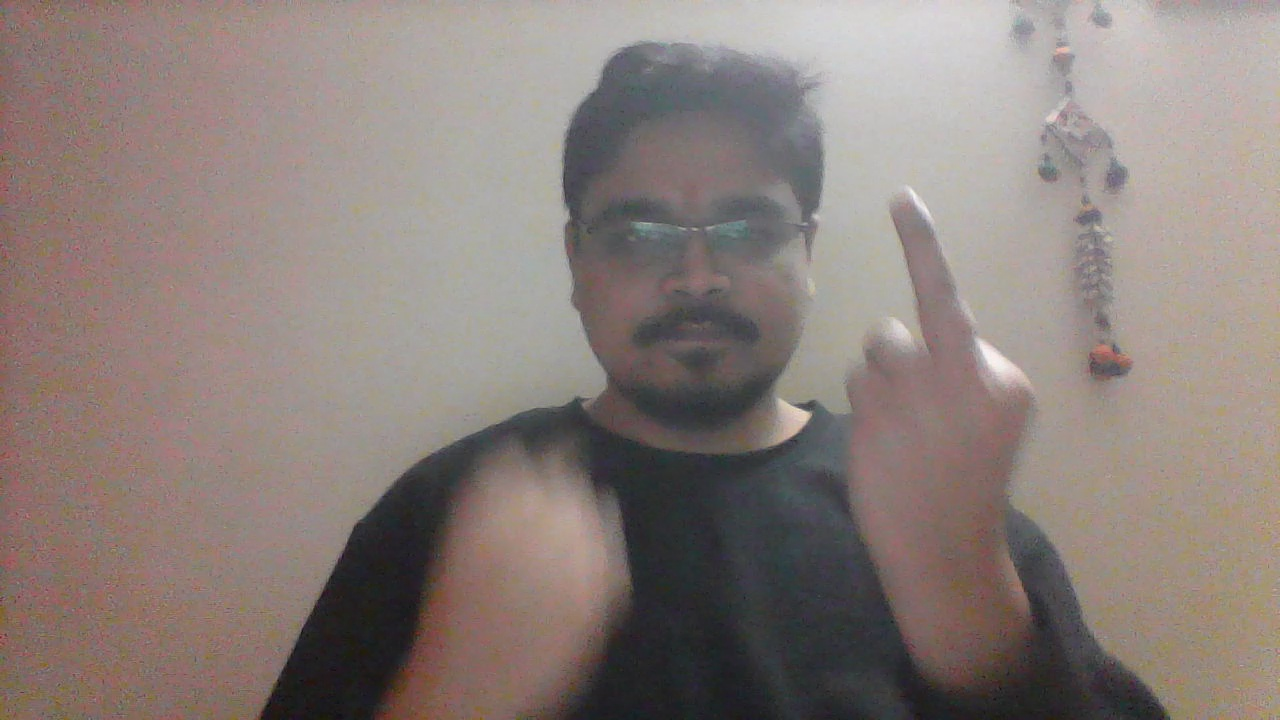Fuck Off: (841, 177, 1039, 621)
